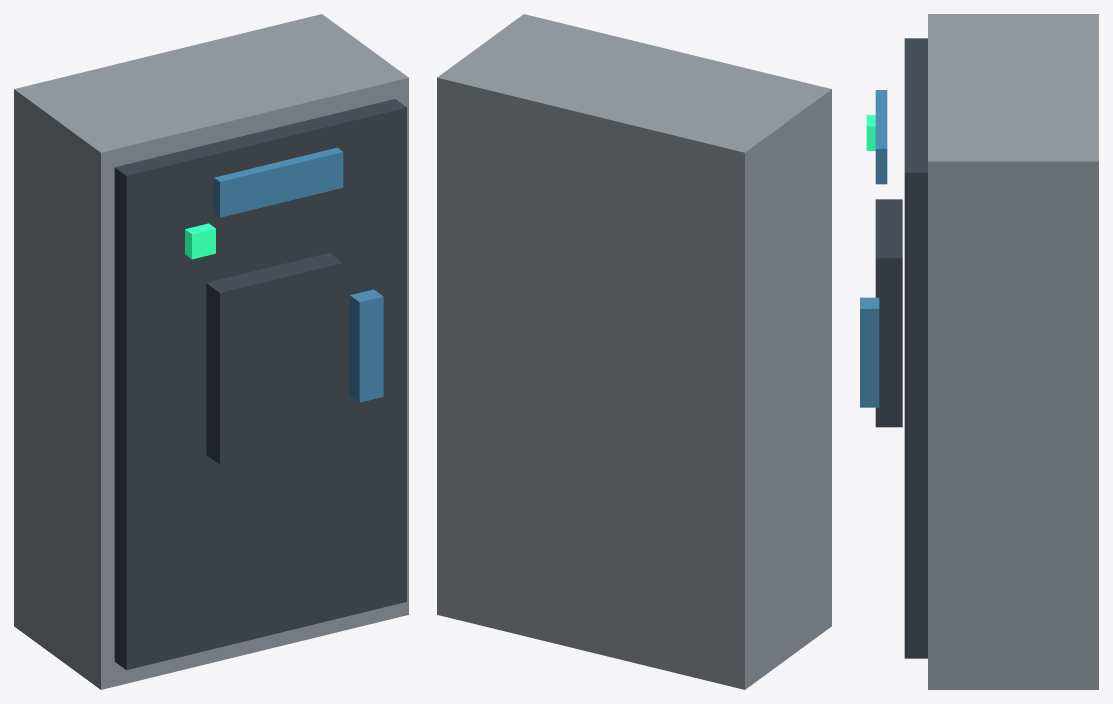
Rendered from stlib-ele-breaker-enclosure-representative-v1.gltf.
3 renders of one model, left to right at view 1: azimuth 30°, elevation 25°; view 2: azimuth 150°, elevation 25°; view 3: azimuth 270°, elevation 25°, orthographic.
Visible parts, largest first — view 1: door, box, breaker, label, handle, indicator; view 2: box; view 3: box, door, breaker, handle, label.
Part boxes in pixels (x1,y1,x2,y2): door: [114, 99, 406, 670]; box: [14, 14, 408, 689]; breaker: [206, 253, 343, 464]; label: [214, 147, 343, 217]; handle: [349, 289, 383, 402]; indicator: [185, 223, 215, 259]; box: [437, 14, 831, 689]; box: [928, 14, 1098, 689]; door: [904, 38, 927, 658]; breaker: [875, 199, 902, 427]; handle: [860, 297, 879, 407]; label: [875, 90, 887, 184].
Bounding box in the file's own units: 0.45 × 0.75 × 0.3075.
